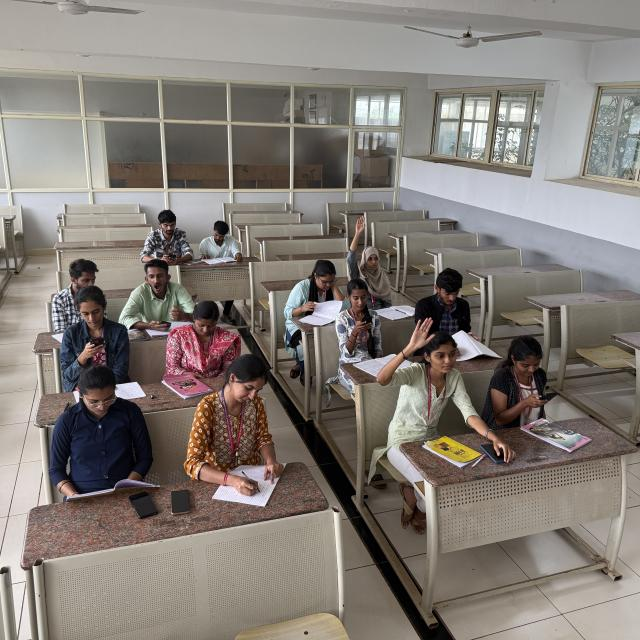Hand Rising: (376, 313, 473, 441), (346, 212, 391, 296)
Reading: (42, 363, 157, 504), (414, 266, 479, 358), (286, 258, 350, 328), (197, 216, 245, 268)
Using Phone: (56, 287, 130, 377), (162, 298, 241, 382), (485, 335, 562, 418), (119, 260, 192, 338), (332, 277, 389, 367), (138, 210, 193, 266)
Writing: (187, 355, 293, 508)
